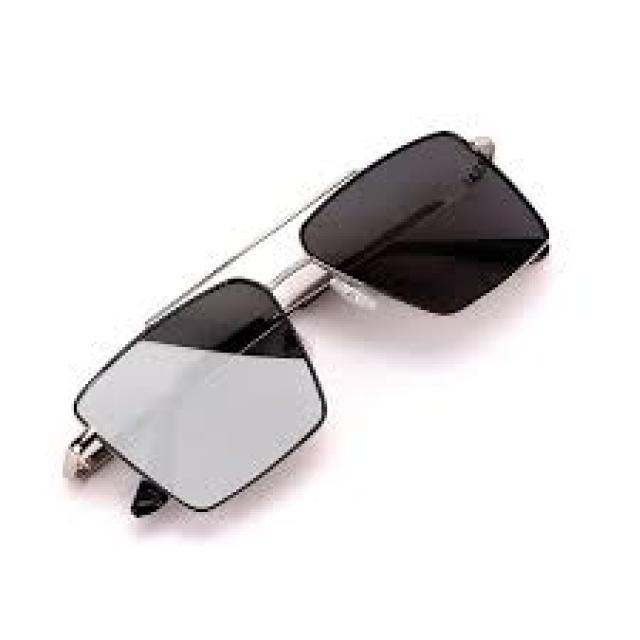sunglasses: (68, 111, 546, 509)
